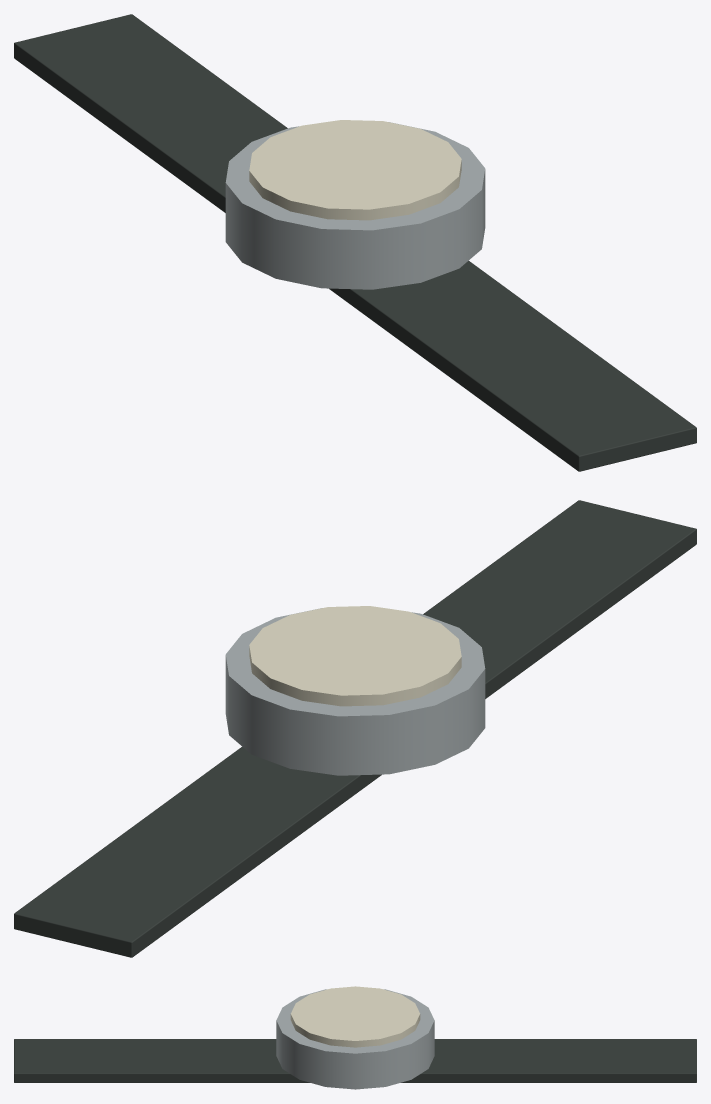
Rendered from scavengers-loot-library-wristwatch-6a0e20f0__2635.glb.
3 renders of one model, top to bottom at view 1: azimuth 30°, elevation 25°; view 2: azimuth 150°, elevation 25°; view 3: azimuth 270°, elevation 25°, orthographic. The views are drawn at different scales.
Parts seen in each view (by area): view 1: wristwatch; view 2: wristwatch; view 3: wristwatch.
Boxes of the visible parts, box(x1,y1,x2,y2) form: wristwatch: box(14, 14, 696, 471); wristwatch: box(14, 500, 696, 957); wristwatch: box(14, 986, 696, 1089).
Size of the model in its own units: 0.044 by 0.016 by 0.19.
